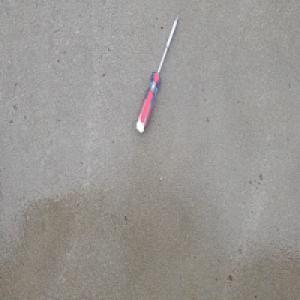Screwdriver: (135, 13, 180, 134)
